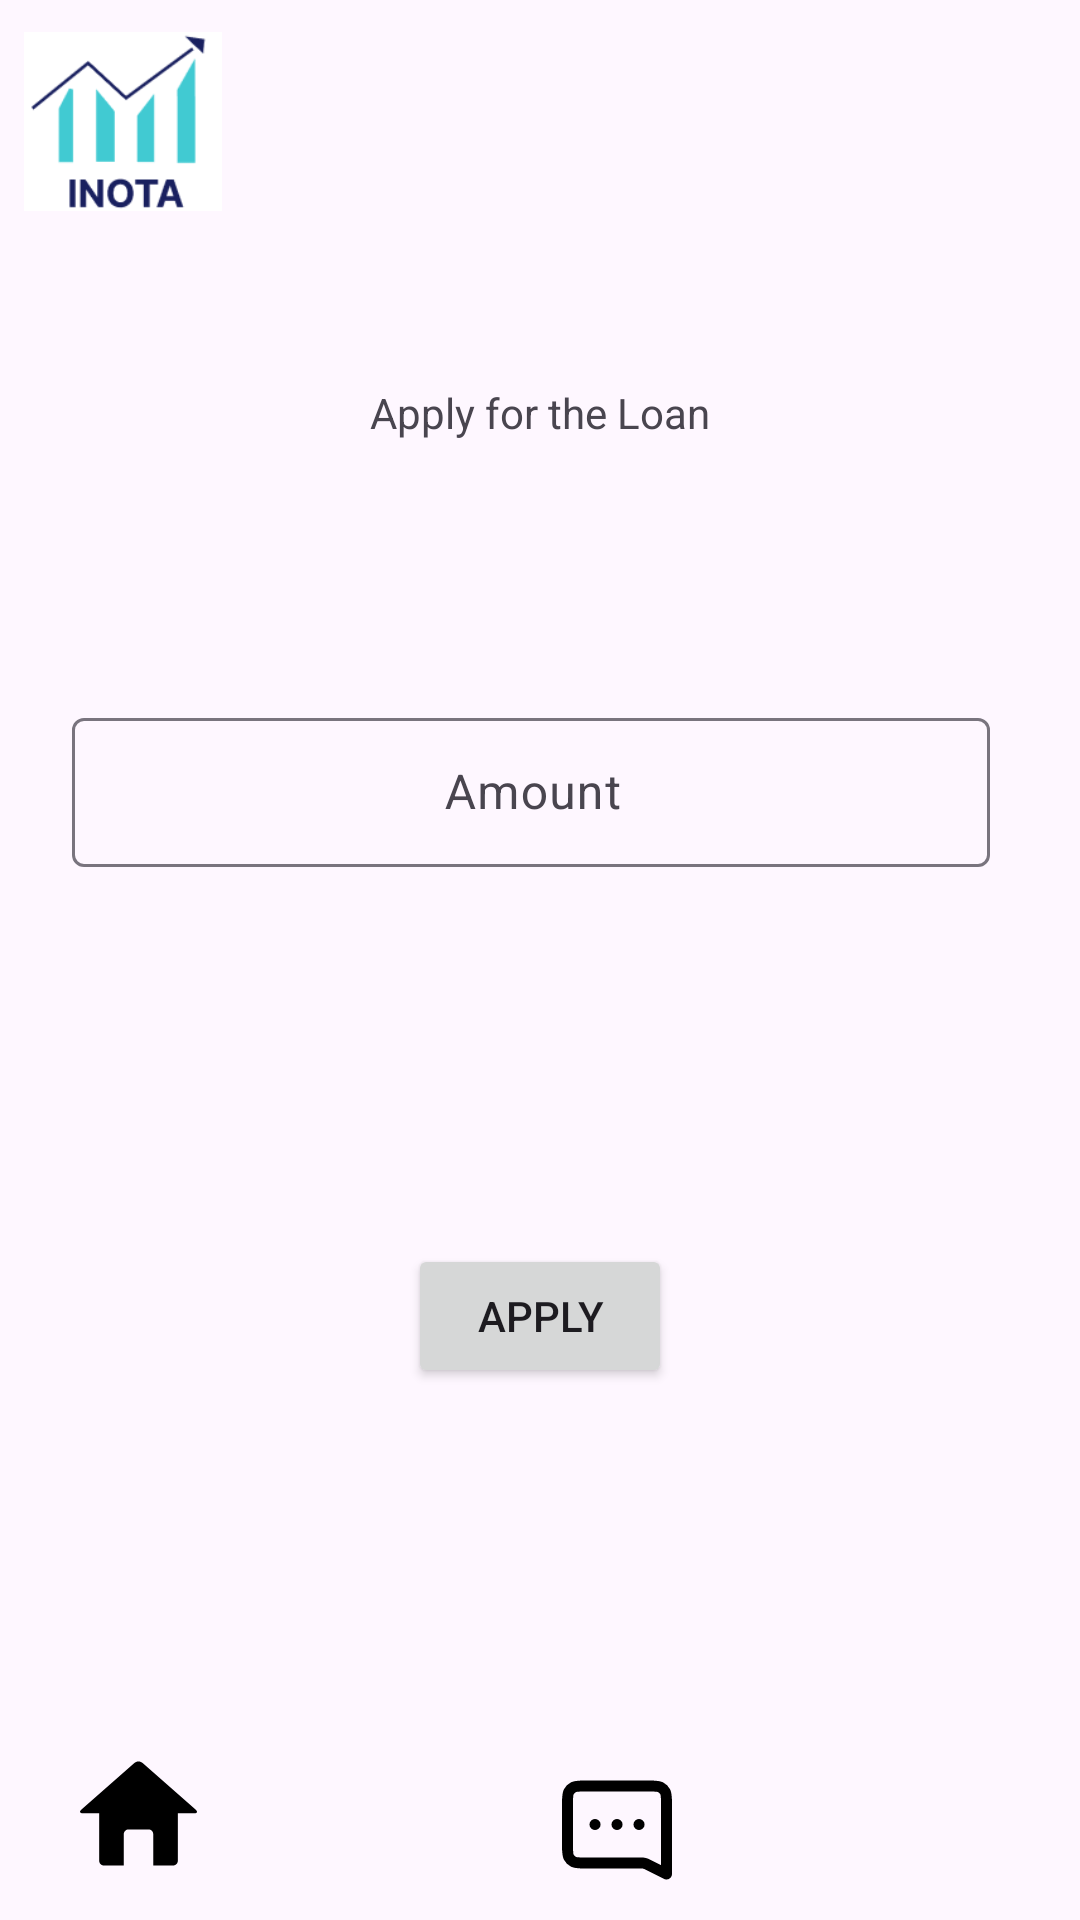

Where icons sit on this 1080×1920 app screen, as (x1, y1, x2, y2):
home: (80, 1761, 197, 1866)
message square dots: (562, 1780, 672, 1880)
